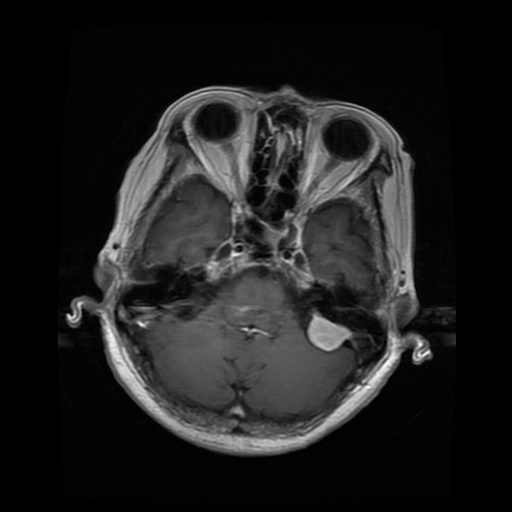meningioma: (308, 314, 351, 351)
